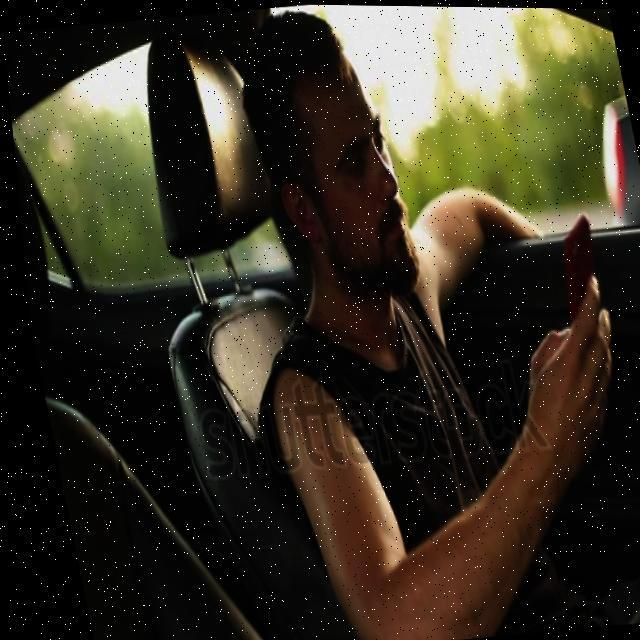PhoneCall: (545, 210, 612, 376)
